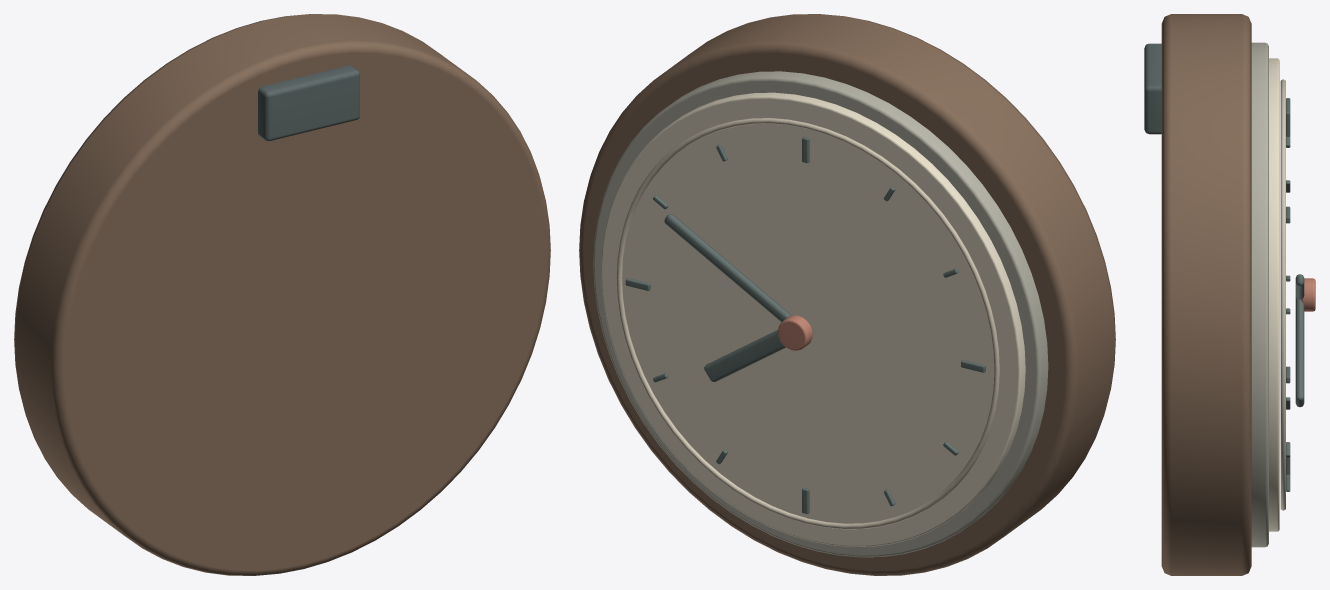
File: classroom_wall_clock.glb
3 views of the same model, side by side, from view 1: azimuth 30°, elevation 25°; view 2: azimuth 150°, elevation 25°; view 3: azimuth 270°, elevation 25° (orthographic). The views are drawn at different scales.
Visible parts, largest first — view 1: Clock_outer_case, Clock_wall_hanger; view 2: Clock_dial, Clock_outer_case, Clock_inner_bezel, Clock_dial_inner_rule, Clock_minute_hand, Clock_hour_hand, Clock_centre_cap; view 3: Clock_outer_case, Clock_inner_bezel, Clock_dial, Clock_dial_inner_rule, Clock_wall_hanger, Clock_hour_hand, Clock_centre_cap, Clock_minute_hand.
Part boxes in pixels (x1,y1,x2,y2): Clock_outer_case: [14, 14, 550, 575]; Clock_wall_hanger: [258, 65, 359, 140]; Clock_dial: [601, 92, 1025, 546]; Clock_outer_case: [579, 14, 1115, 575]; Clock_inner_bezel: [593, 71, 1048, 557]; Clock_dial_inner_rule: [616, 118, 999, 529]; Clock_minute_hand: [664, 214, 791, 321]; Clock_hour_hand: [704, 330, 785, 381]; Clock_centre_cap: [778, 315, 812, 350]; Clock_outer_case: [1161, 14, 1251, 575]; Clock_inner_bezel: [1251, 42, 1268, 547]; Clock_dial: [1269, 58, 1279, 531]; Clock_dial_inner_rule: [1280, 79, 1285, 510]; Clock_wall_hanger: [1144, 43, 1161, 134]; Clock_hour_hand: [1295, 297, 1304, 407]; Clock_centre_cap: [1301, 278, 1315, 311]; Clock_minute_hand: [1295, 274, 1304, 299].
Bounding box in the file's own units: 0.47 × 0.47 × 0.143.
